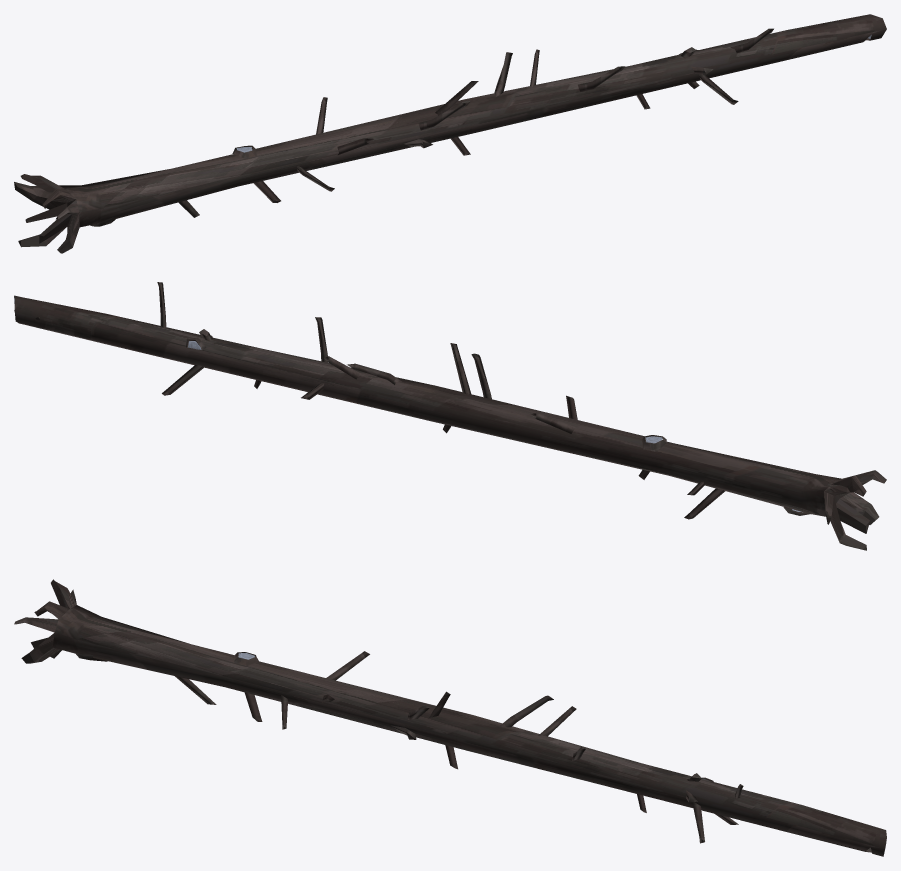
File: arbre mort long.fbx
3 renders of one model, top to bottom at view 1: azimuth 30°, elevation 25°; view 2: azimuth 150°, elevation 25°; view 3: azimuth 330°, elevation 25°, orthographic. The views are drawn at different scales.
Parts seen in each view (by area): view 1: pasted__pasted__pasted__pasted__polySurface32; view 2: pasted__pasted__pasted__pasted__polySurface32; view 3: pasted__pasted__pasted__pasted__polySurface32.
Part boxes in pixels (x1=…): pasted__pasted__pasted__pasted__polySurface32: x1=14, y1=14, x2=886, y2=253; pasted__pasted__pasted__pasted__polySurface32: x1=14, y1=282, x2=886, y2=550; pasted__pasted__pasted__pasted__polySurface32: x1=14, y1=579, x2=886, y2=856.
Bounding box in the file's own units: 30.43 × 3.11 × 3.53.
6 materials, 6 textured.
